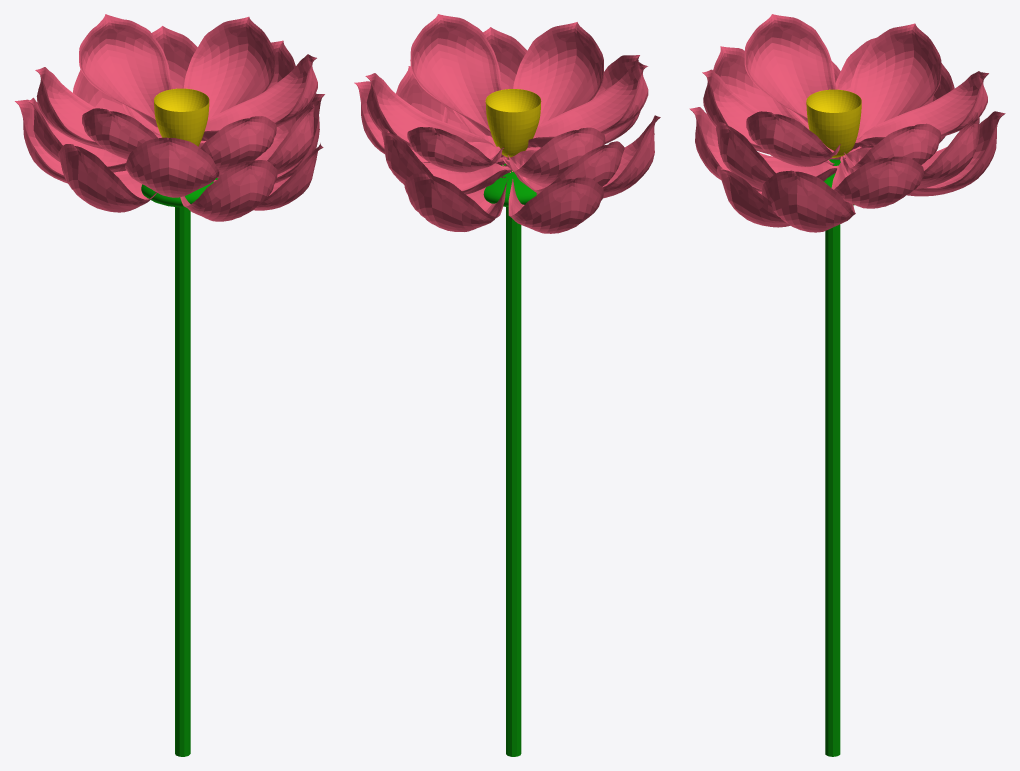
Rendered from Lotus083.fbx.
3 renders of one model, left to right at view 1: azimuth 30°, elevation 25°; view 2: azimuth 150°, elevation 25°; view 3: azimuth 270°, elevation 25°, orthographic.
Visible parts, largest first — view 1: pCylinder1, nurbsToPoly23, nurbsToPoly19, nurbsToPoly16, nurbsToPoly11, nurbsToPoly8, nurbsToPoly22, nurbsToPoly18, pSphere3, nurbsToPoly20, nurbsToPoly21, nurbsToPoly13 (+8 smaller); view 2: pCylinder1, nurbsToPoly22, nurbsToPoly18, nurbsToPoly10, nurbsToPoly21, nurbsToPoly12, pSphere3, nurbsToPoly20, nurbsToPoly19, nurbsToPoly23, nurbsToPoly17, nurbsToPoly14 (+6 smaller); view 3: pCylinder1, nurbsToPoly20, nurbsToPoly21, nurbsToPoly9, nurbsToPoly15, nurbsToPoly23, nurbsToPoly22, pSphere3, nurbsToPoly13, nurbsToPoly19, nurbsToPoly16, nurbsToPoly18 (+5 smaller).
Part boxes in pixels (<box>): pCylinder1: <box>175,207,190,756</box>; nurbsToPoly23: <box>79,14,172,127</box>; nurbsToPoly19: <box>183,16,275,118</box>; nurbsToPoly16: <box>125,137,219,197</box>; nurbsToPoly11: <box>58,144,157,212</box>; nurbsToPoly8: <box>180,160,277,221</box>; nurbsToPoly22: <box>201,54,317,140</box>; nurbsToPoly18: <box>198,116,276,174</box>; pSphere3: <box>154,88,209,146</box>; nurbsToPoly20: <box>35,67,160,149</box>; nurbsToPoly21: <box>82,108,161,159</box>; nurbsToPoly13: <box>217,104,314,178</box>; pCylinder1: <box>506,207,521,756</box>; nurbsToPoly22: <box>410,14,502,137</box>; nurbsToPoly18: <box>513,22,603,125</box>; nurbsToPoly10: <box>404,172,510,231</box>; nurbsToPoly21: <box>527,62,648,147</box>; nurbsToPoly12: <box>508,170,603,233</box>; pSphere3: <box>485,89,541,157</box>; nurbsToPoly20: <box>507,127,605,183</box>; nurbsToPoly19: <box>365,73,503,157</box>; nurbsToPoly23: <box>407,127,503,172</box>; nurbsToPoly17: <box>381,128,511,194</box>; nurbsToPoly14: <box>503,141,624,193</box>; pCylinder1: <box>825,224,840,756</box>; nurbsToPoly20: <box>850,23,941,150</box>; nurbsToPoly21: <box>744,14,836,122</box>; nurbsToPoly9: <box>761,170,855,232</box>; nurbsToPoly15: <box>831,155,924,208</box>; nurbsToPoly23: <box>854,71,988,145</box>; nurbsToPoly22: <box>746,111,840,166</box>; pSphere3: <box>806,89,861,157</box>; nurbsToPoly13: <box>715,122,838,189</box>; nurbsToPoly19: <box>844,123,940,170</box>; nurbsToPoly16: <box>713,46,834,165</box>; nurbsToPoly18: <box>702,69,768,154</box>.
Size of the model in its own units: 19.05 by 48.75 by 20.25.
